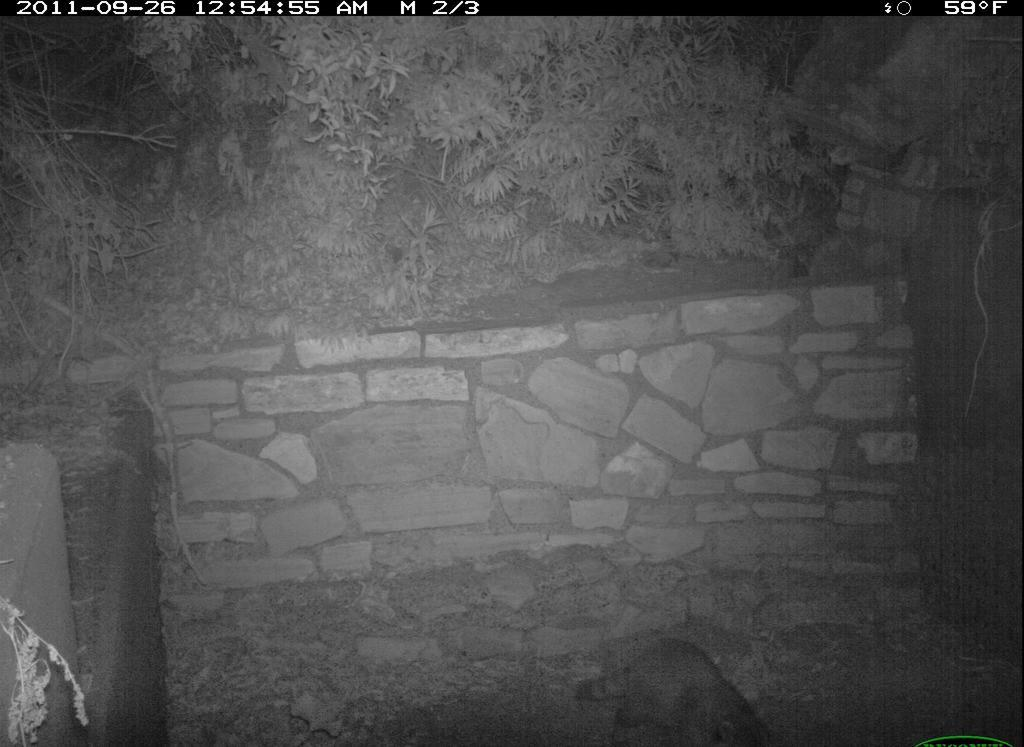raccoon: (566, 632, 783, 747)
